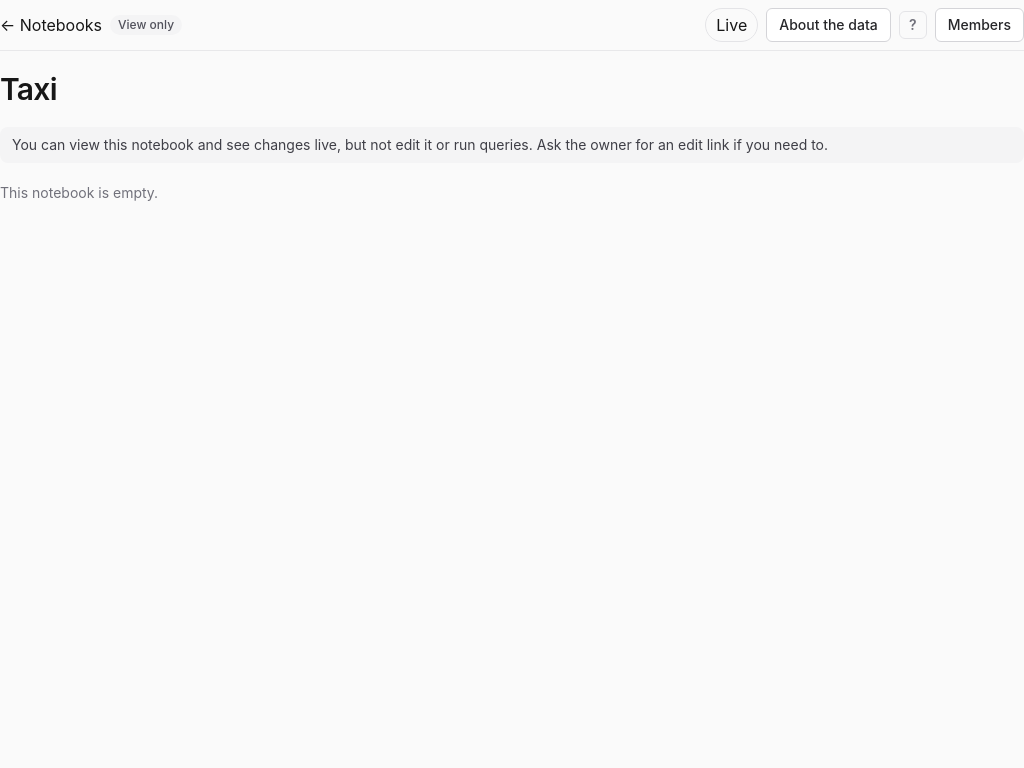
Test: adding cells and finding help › gives viewers the guide without the ask buttons
Click the button "About the data" at (828, 25), box [766, 8, 891, 42]
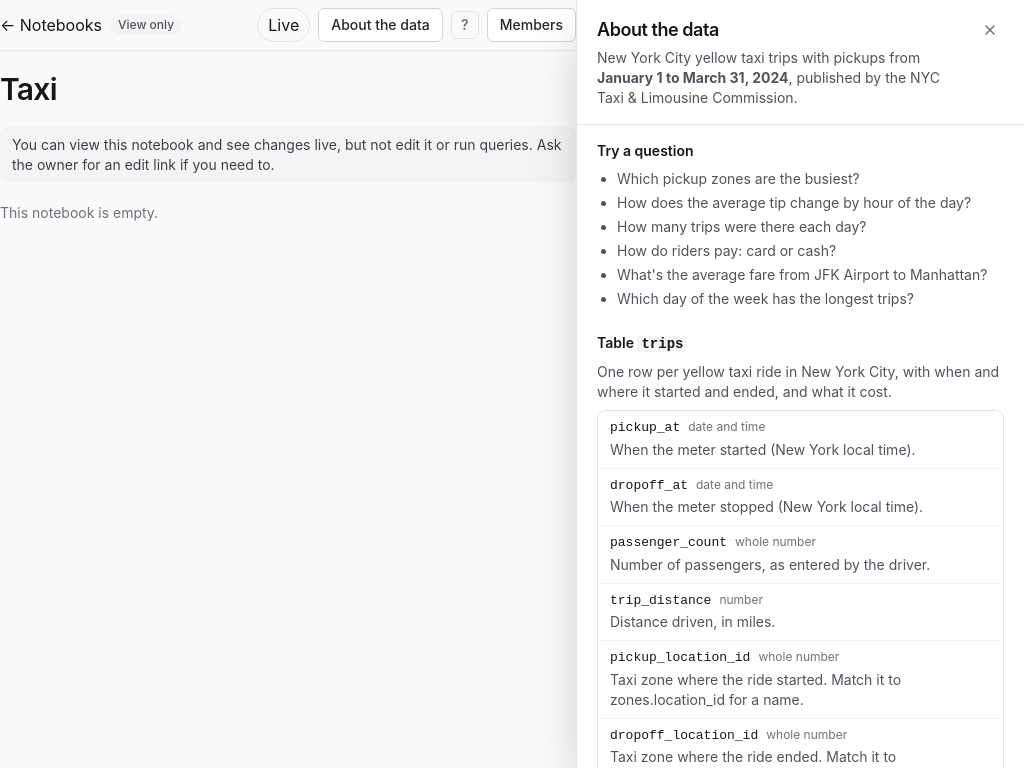
Expected: the list item "Which pickup zones are the busiest?" is shown, [617, 170, 860, 187]
